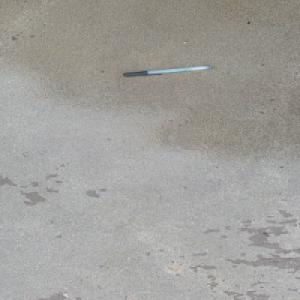Pen: (121, 64, 213, 78)
